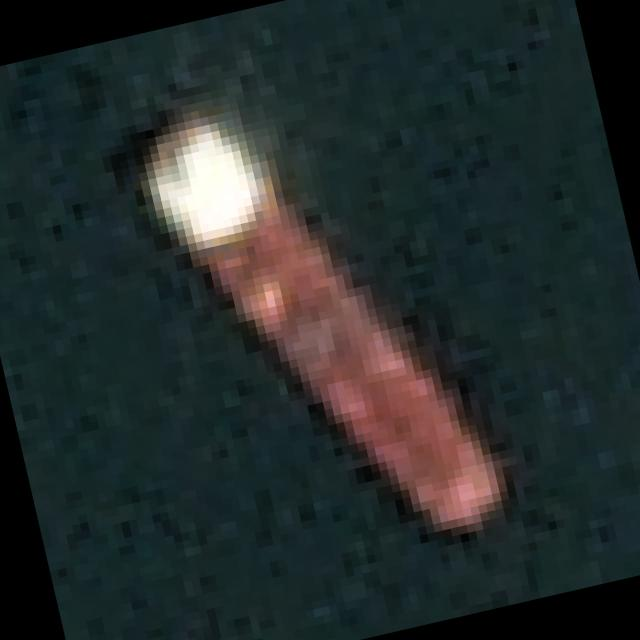ship: (100, 37, 548, 618)
